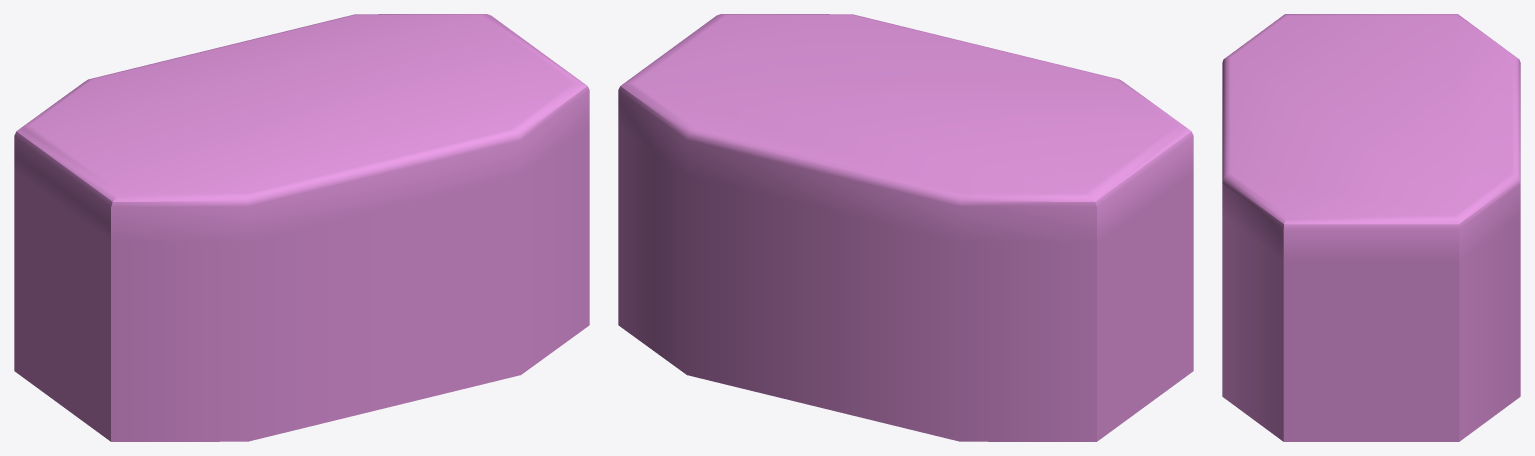
The model's file is labtable_small.fbx.
3 views of the same model, side by side, from view 1: azimuth 30°, elevation 25°; view 2: azimuth 150°, elevation 25°; view 3: azimuth 270°, elevation 25° (orthographic). The views are drawn at different scales.
Visible parts, largest first — view 1: labtable_small; view 2: labtable_small; view 3: labtable_small.
Boxes of the visible parts, box(x1,y1,x2,y2) form: labtable_small: box(14, 14, 589, 441); labtable_small: box(618, 14, 1193, 441); labtable_small: box(1222, 14, 1520, 441).
Bounding box in the file's own units: 173 × 84.41 × 103.
